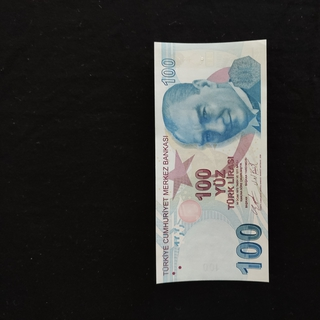100TLFront: (153, 39, 270, 285)
